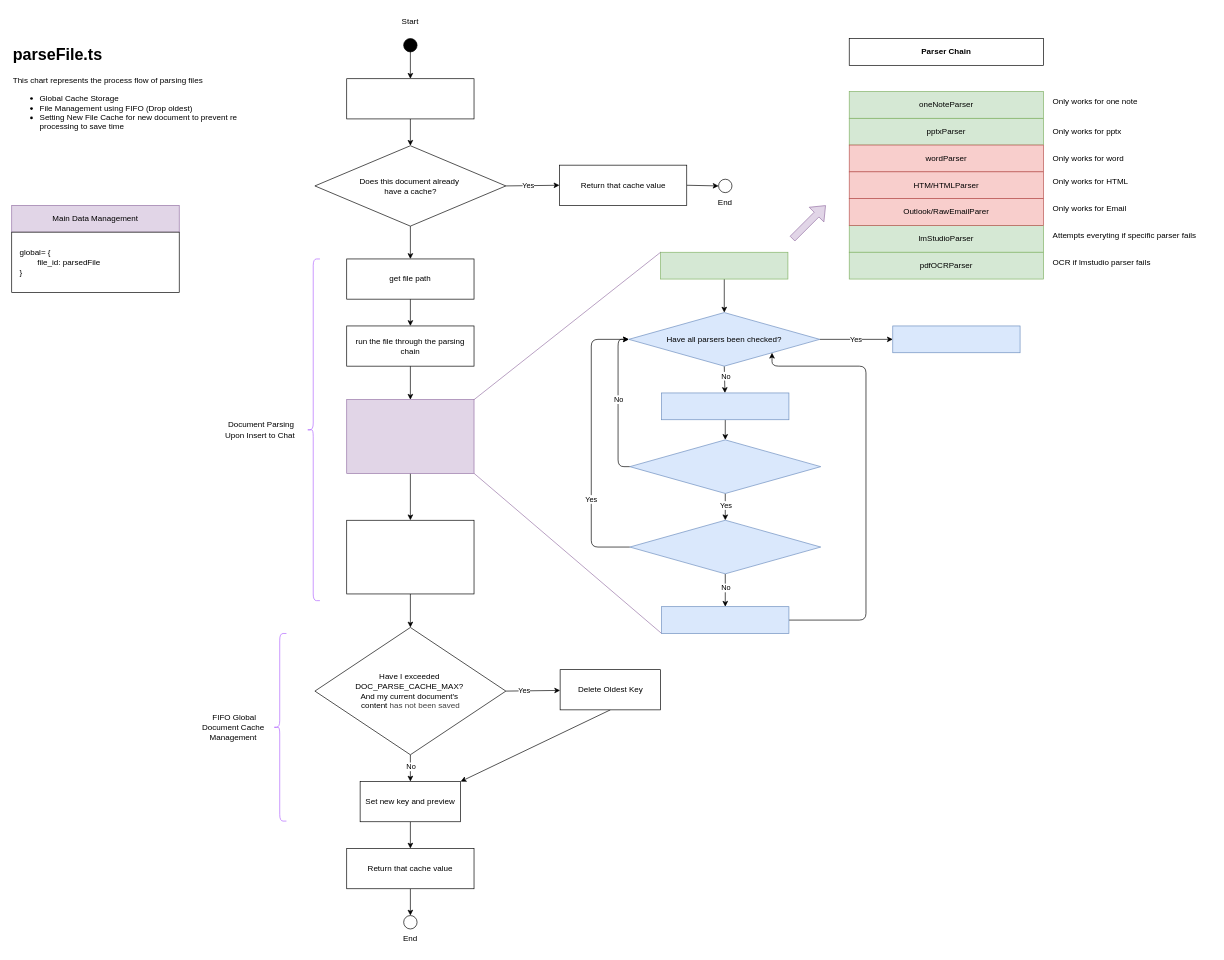
Some shapes in this 1224 by 960 pixel diagram are drawn without their labels. Each missing label, with the centre of its shape:
Can this parser be applied to this file?: the point at 725,466
Can this parser be skipped, due to good previous result?: the point at 725,547
Get All parsers in chain: the point at 724,265
Get Next Parser: the point at 725,406
parser.parse(file) [Steps depend on specific parser code]: the point at 725,619
return a parsed file object with just the extracted content: the point at 410,557
return result: the point at 956,339
run cache preview check for current document cache: the point at 410,98
run the file through the parsing chain chain.run(file): the point at 410,436
